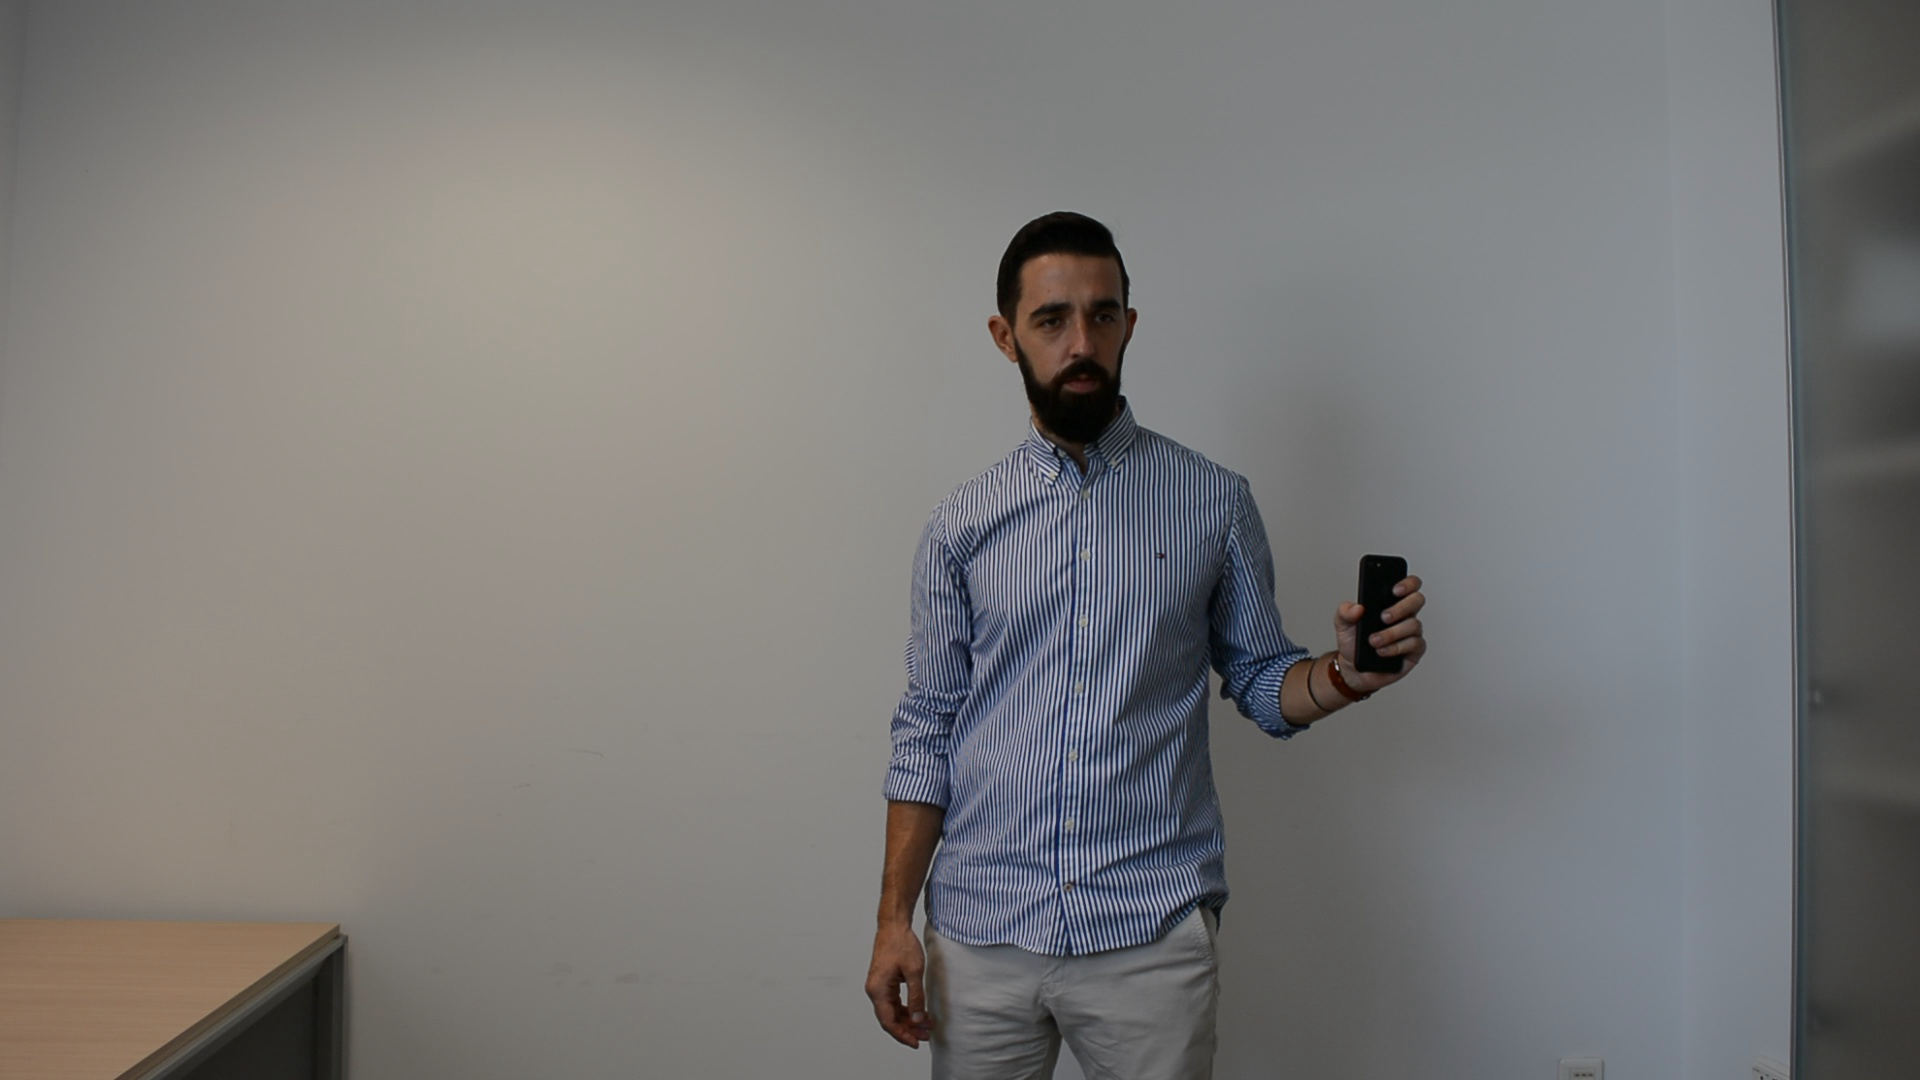smartphone: (1352, 553, 1412, 676)
